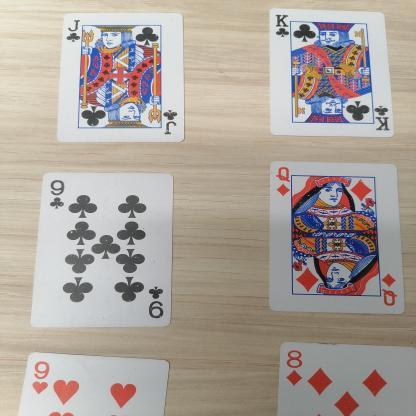8D: (282, 350, 309, 387)
9C: (43, 172, 66, 219)
9H: (28, 360, 63, 398)
JC: (64, 13, 90, 46)
KC: (264, 11, 296, 44)
QD: (268, 167, 296, 200)
